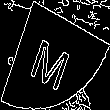M_NE: (31, 22, 79, 88)
